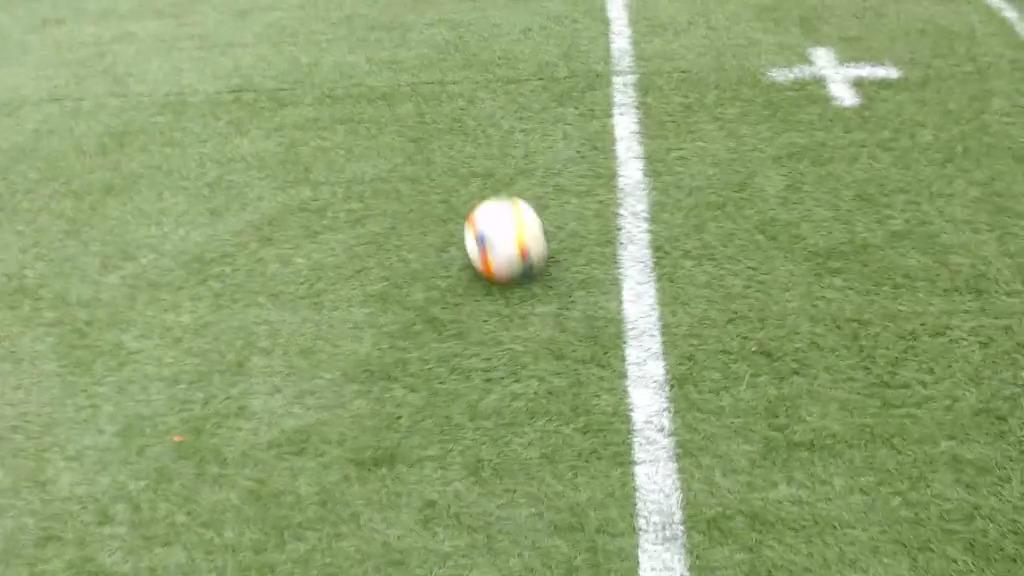ball: (465, 195, 547, 282)
